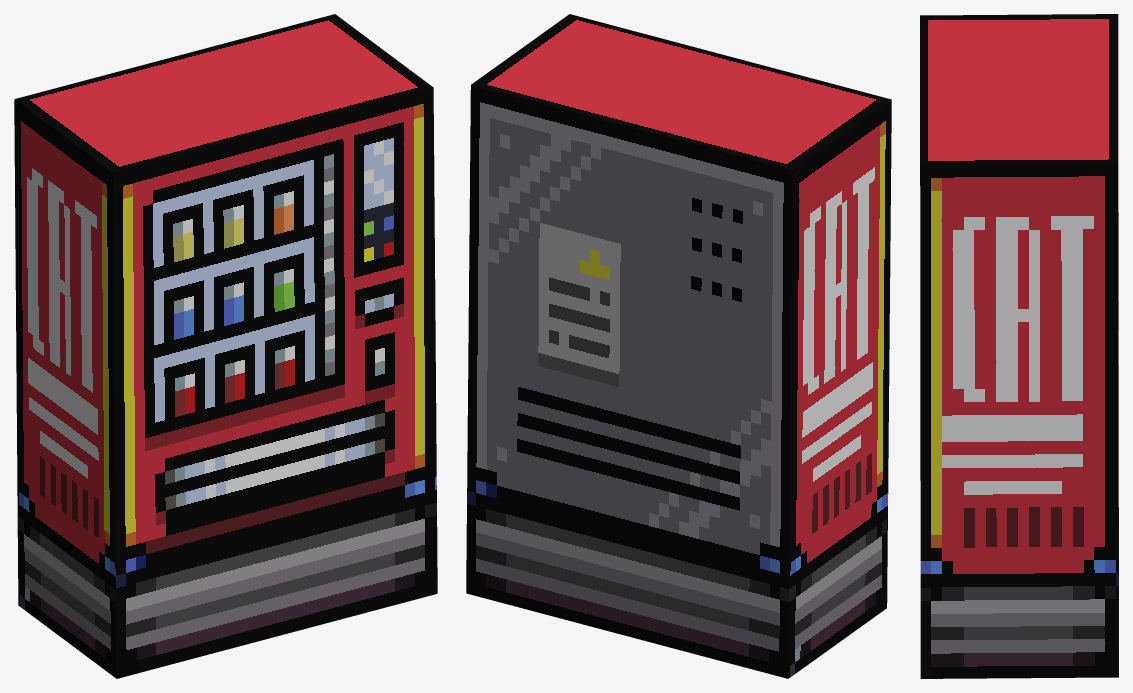
3 renders of one model, left to right at view 1: azimuth 30°, elevation 25°; view 2: azimuth 150°, elevation 25°; view 3: azimuth 270°, elevation 25°, orthographic.
Visible parts, largest first — view 1: Cube; view 2: Cube; view 3: Cube.
Boxes of the visible parts, x1,y1,x2,y2 form: Cube: [14, 14, 437, 678]; Cube: [466, 14, 891, 678]; Cube: [920, 14, 1118, 678].
Bounding box in the file's own units: 2.03 × 3.07 × 1.07.
1 material, 1 textured.
